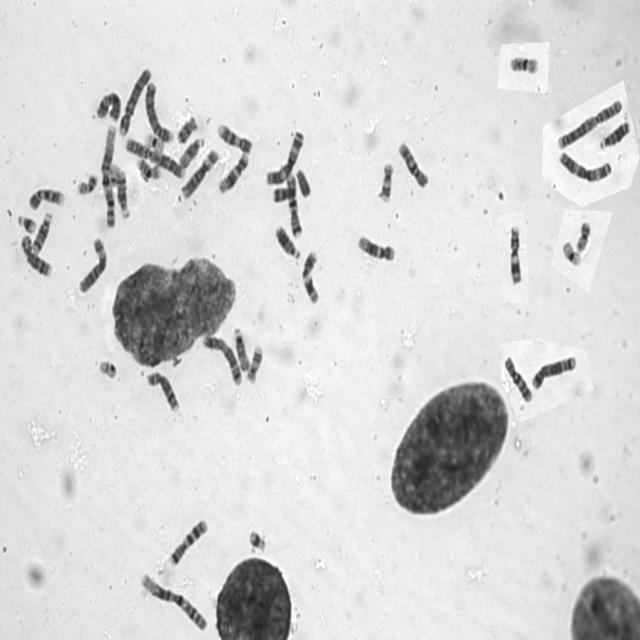A1: (138, 570, 209, 633), (99, 120, 118, 230)
A2: (554, 95, 624, 150), (123, 134, 185, 181)
A3: (264, 128, 306, 188), (556, 148, 613, 184)
B4: (116, 64, 153, 138), (143, 78, 174, 145)
B5: (200, 331, 244, 386), (530, 353, 578, 391)
C10: (396, 138, 429, 190), (502, 353, 534, 404)
C11: (300, 246, 320, 306), (507, 222, 522, 286)
C12: (216, 150, 250, 195), (356, 232, 396, 264)
C6: (179, 145, 220, 200), (76, 234, 109, 295)
C7: (166, 516, 210, 568), (284, 172, 303, 238)
C8: (144, 368, 181, 414), (19, 231, 54, 279)
C9: (215, 120, 254, 156), (27, 184, 66, 211)
D13: (273, 222, 301, 260), (599, 118, 631, 150)
D14: (31, 210, 54, 255), (115, 169, 131, 219)
D15: (177, 134, 205, 169), (230, 327, 250, 373)
E16: (507, 52, 539, 75), (136, 155, 162, 181)
E17: (376, 161, 395, 205), (245, 347, 262, 385)
E18: (268, 174, 297, 204), (174, 116, 199, 144)
F19: (562, 243, 582, 268), (142, 132, 164, 154)
F20: (573, 218, 592, 254), (75, 171, 99, 196)
G21: (246, 526, 266, 554), (16, 212, 38, 236)
G22: (97, 357, 118, 380), (107, 160, 121, 188)
X: (93, 89, 122, 122)
Y: (294, 166, 311, 198)
